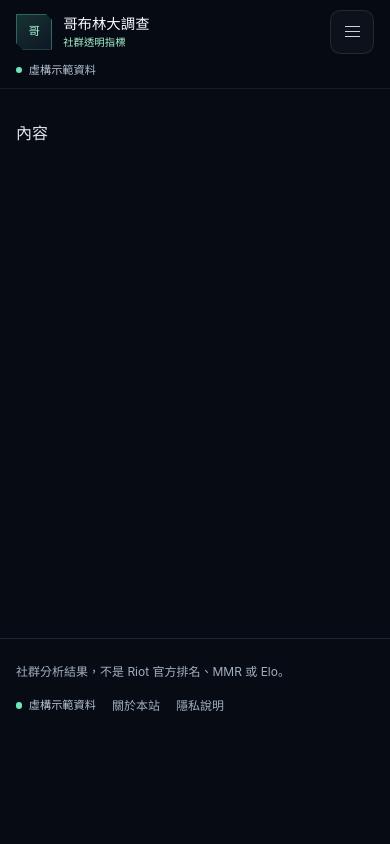
Test: V1 presentation and accessibility › same-route mobile navigation still closes and restores a useful focus target
What coordinates should you click on to do the following:
click the button with class "mobile-menu-toggle"
I would click on:
 (352, 32)
Its box is 330,10 -> 374,54.
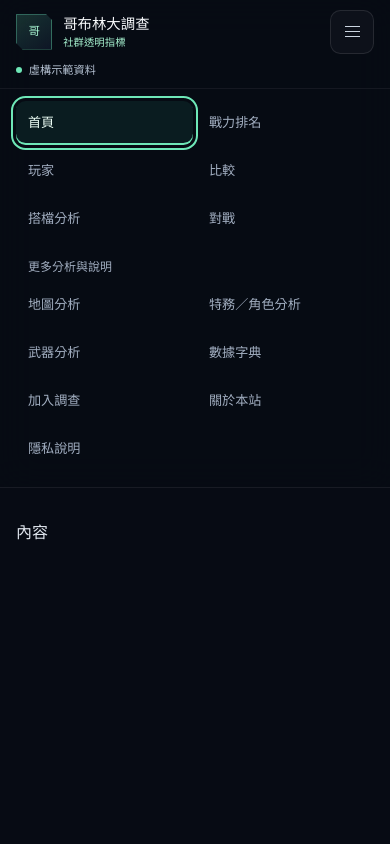
What coordinates should you click on to do the following:
click the link to "/"
I would click on:
 (104, 123)
Its box is 16,101 -> 193,145.
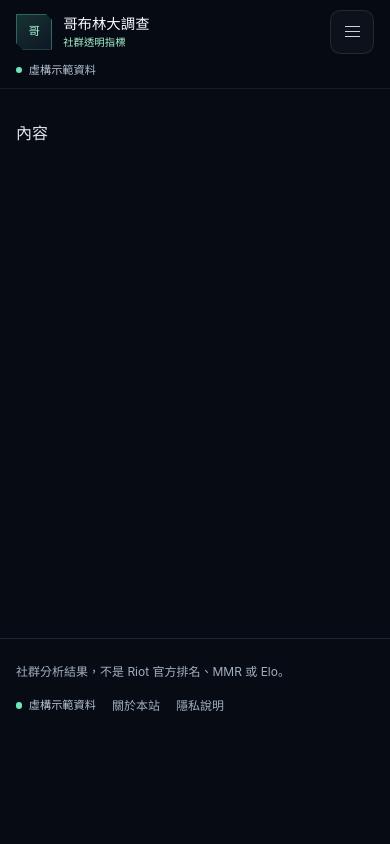
Result: the navigation bar with id "mobile-navigation" is gone
